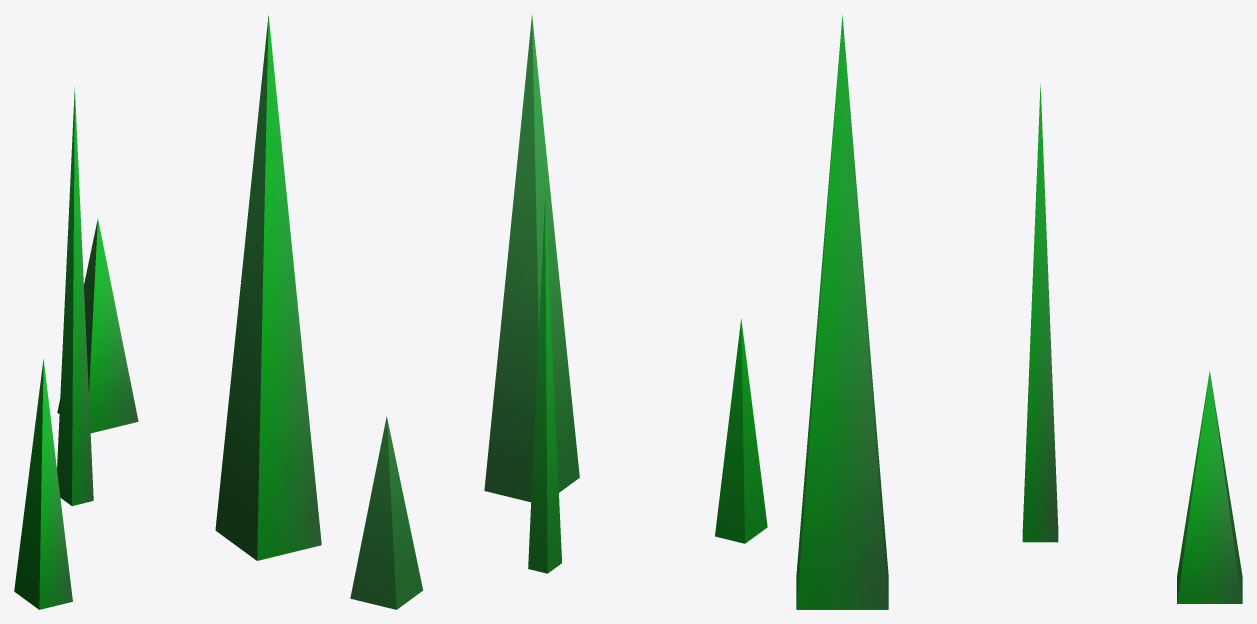
Rendered from Grass1.FBX.
The picture shows the model from 3 angles, left to right: view 1: azimuth 30°, elevation 25°; view 2: azimuth 150°, elevation 25°; view 3: azimuth 270°, elevation 25°; orthographic projection. The views are drawn at different scales.
Visible parts, largest first — view 1: Grass1, Grass3, Grass2, Grass4; view 2: Grass1, Grass4, Grass3, Grass2; view 3: Grass1, Grass3, Grass4.
Boxes of the visible parts, x1,y1,x2,y2 form: Grass1: (215, 15, 321, 560); Grass3: (57, 87, 93, 505); Grass2: (14, 359, 72, 609); Grass4: (57, 219, 138, 433); Grass1: (484, 14, 579, 502); Grass4: (350, 416, 423, 609); Grass3: (528, 197, 561, 573); Grass2: (715, 319, 767, 543); Grass1: (796, 15, 888, 609); Grass3: (1022, 84, 1058, 542); Grass4: (1177, 370, 1242, 603).
Bounding box in the file's own units: 13.93 × 25.07 × 17.52.
